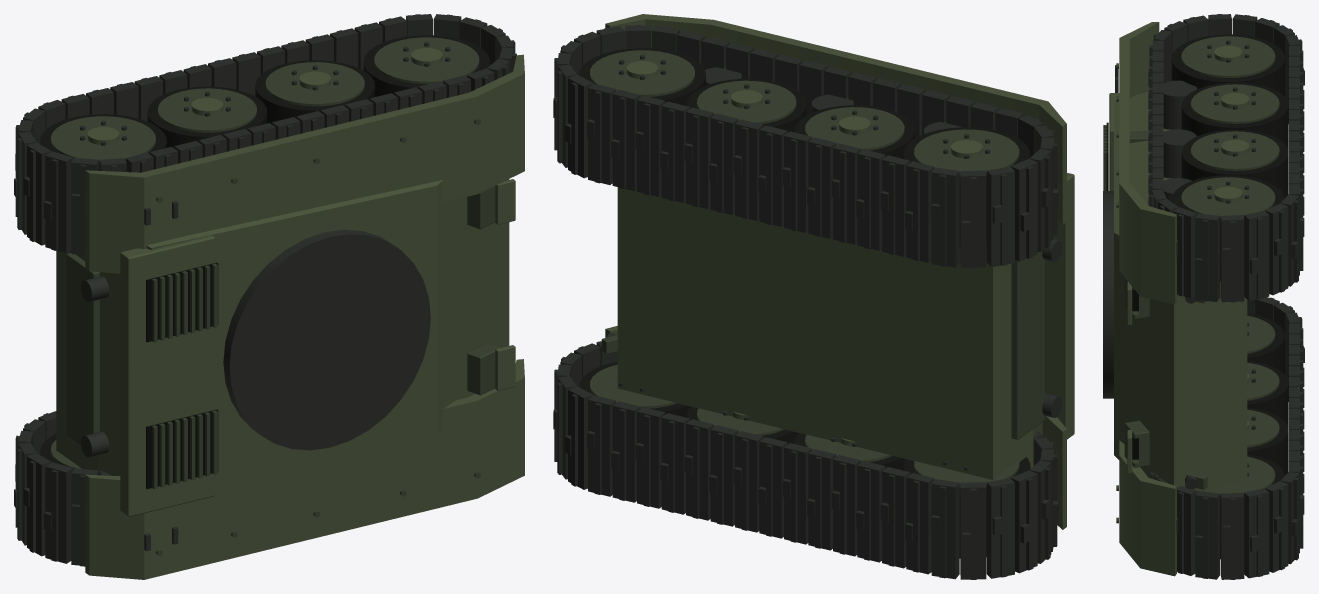
The model's file is BaseTank.FBX.
The picture shows the model from 3 angles, left to right: view 1: azimuth 30°, elevation 25°; view 2: azimuth 150°, elevation 25°; view 3: azimuth 270°, elevation 25°; orthographic projection. The views are drawn at different scales.
Parts seen in each view (by area): view 1: base; view 2: base; view 3: base.
Boxes of the visible parts, x1=… form: base: x1=14, y1=14, x2=524, y2=579; base: x1=553, y1=14, x2=1074, y2=579; base: x1=1103, y1=14, x2=1304, y2=579.
Size of the model in its own units: 14.62 by 11.66 by 5.93.
